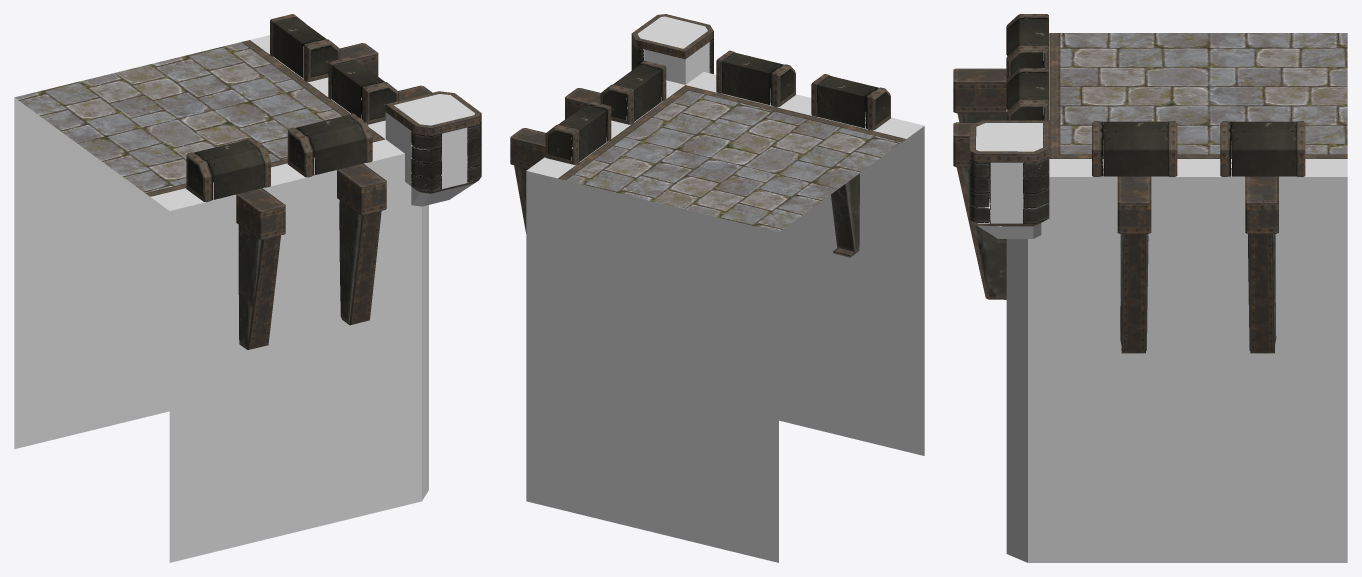
3 views of the same model, side by side, from view 1: azimuth 30°, elevation 25°; view 2: azimuth 150°, elevation 25°; view 3: azimuth 270°, elevation 25° (orthographic). The views are drawn at different scales.
Visible parts, largest first — view 1: SM_Dowdun_Walkway_Corner_01_LOD0; view 2: SM_Dowdun_Walkway_Corner_01_LOD0; view 3: SM_Dowdun_Walkway_Corner_01_LOD0.
Boxes of the visible parts, box(x1,y1,x2,y2) form: SM_Dowdun_Walkway_Corner_01_LOD0: box(14, 14, 481, 562); SM_Dowdun_Walkway_Corner_01_LOD0: box(510, 14, 924, 562); SM_Dowdun_Walkway_Corner_01_LOD0: box(953, 14, 1347, 562).
Bounding box in the file's own units: 9.47 × 11 × 9.25.
4 materials, 3 textured.
